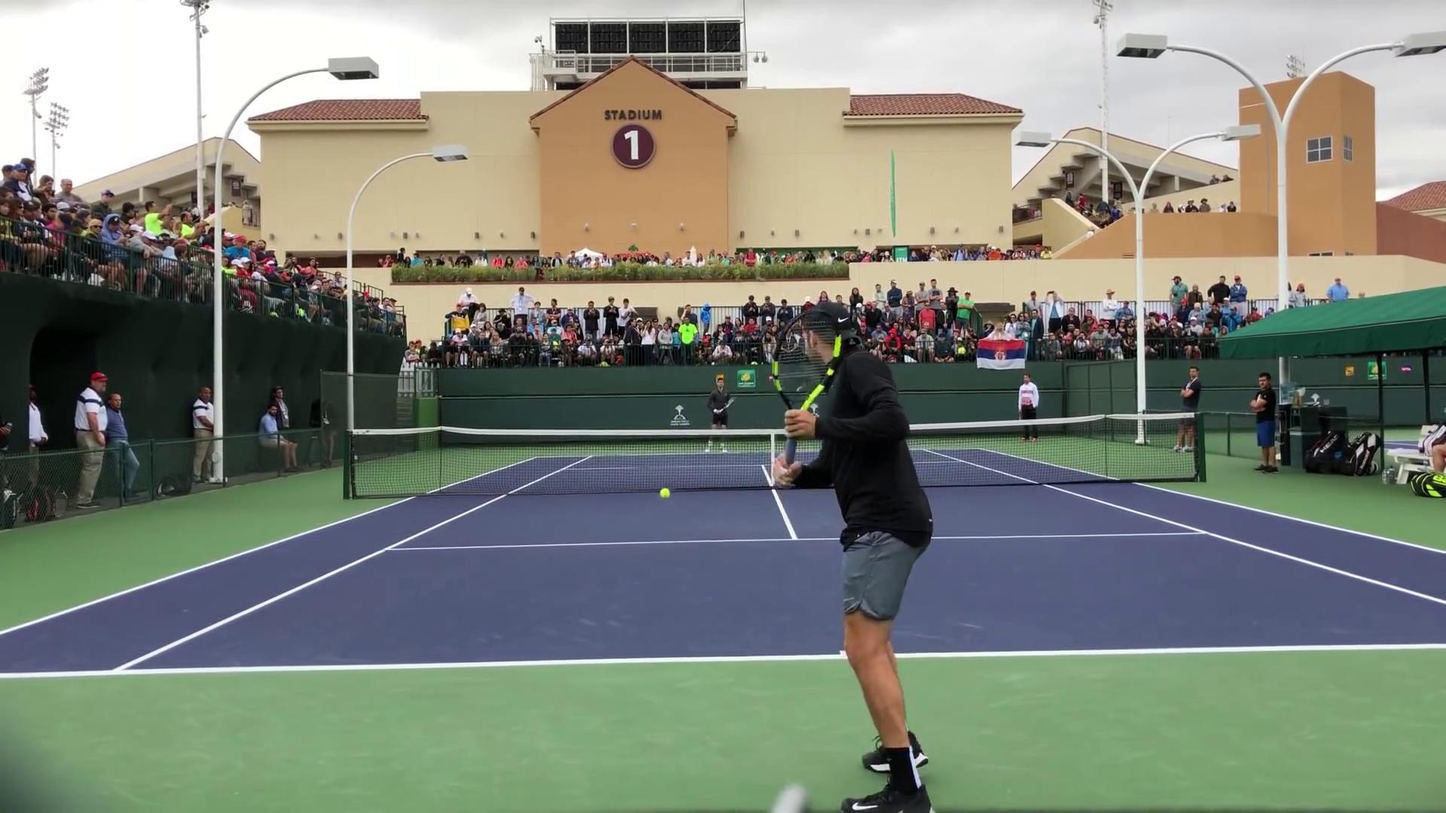ball: (658, 483, 672, 498)
